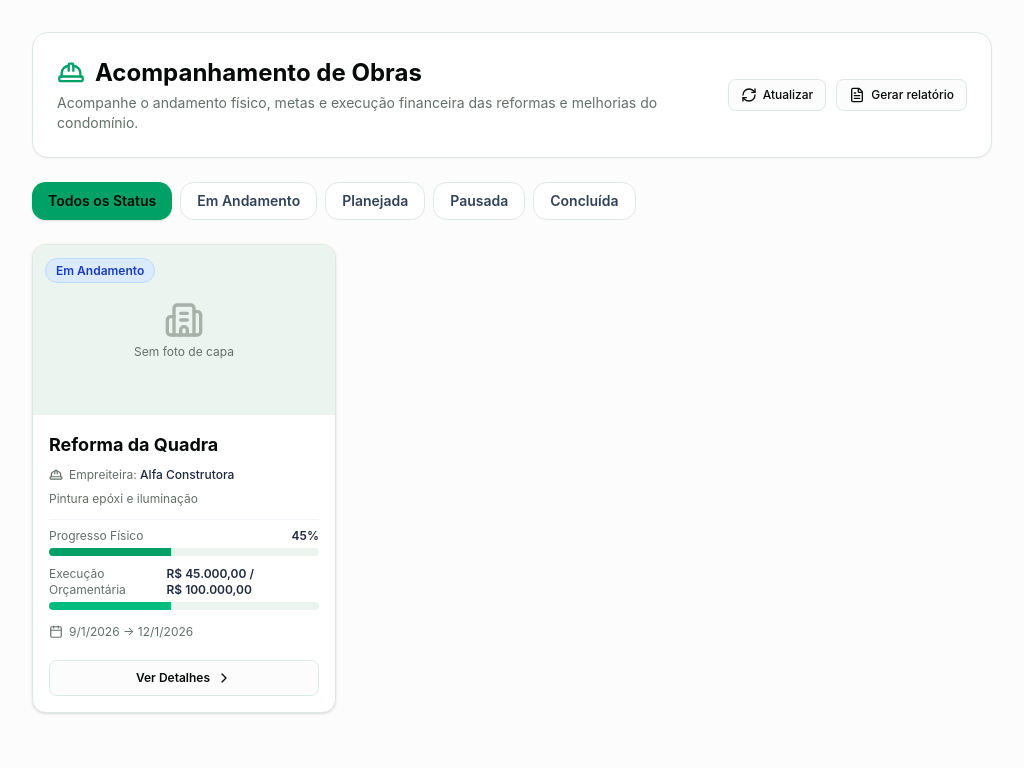
Test: ConstructionTrackerPage handlers › hides every create/edit/delete control from a non-managing role
The image size is (1024, 768).
Check: the heading "Reforma da Quadra" is shown, box [49, 434, 218, 455]
Click the button "Ver Detalhes": (184, 678) [49, 660, 319, 696]
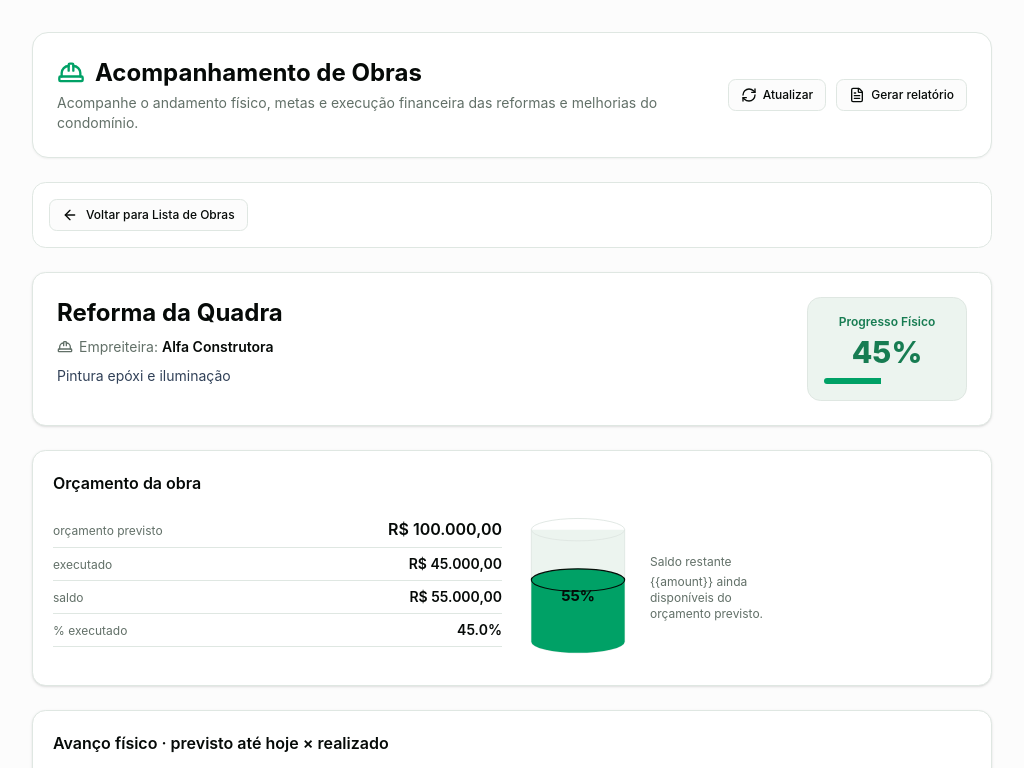
Check: the text "Voltar para Lista de Obras" is shown, box [86, 207, 235, 223]
